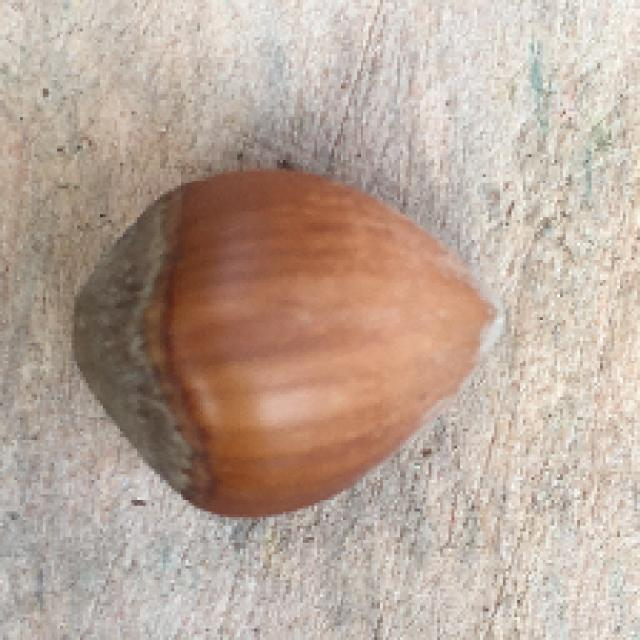QualityHazelnut: (70, 167, 510, 519)
